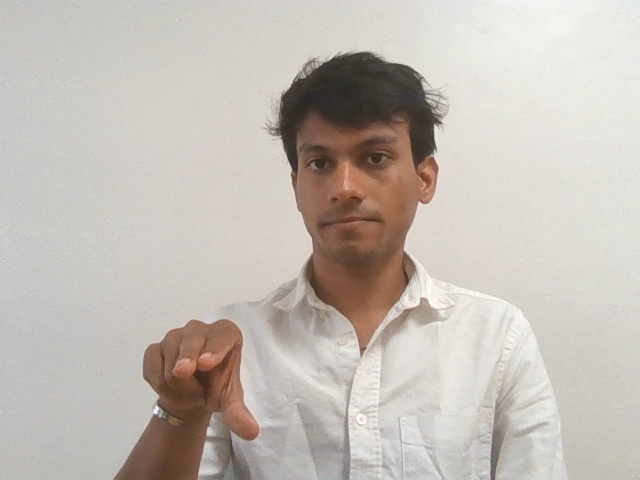No: (131, 317, 264, 442)
